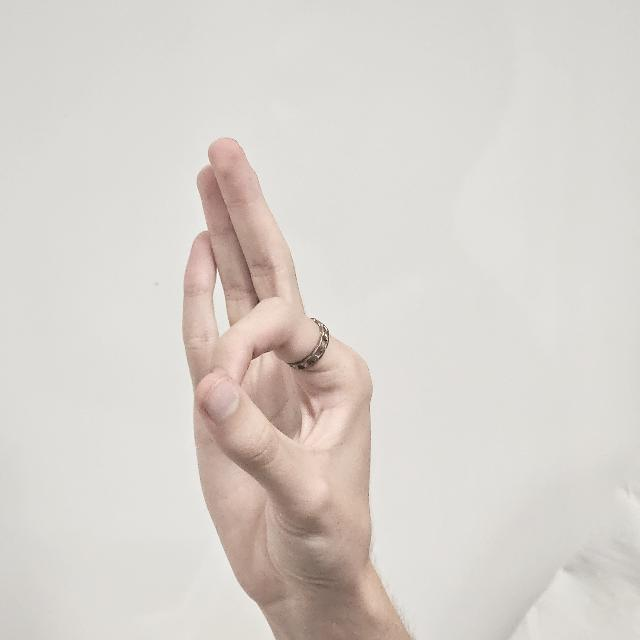Bolinha: (151, 124, 405, 602)
